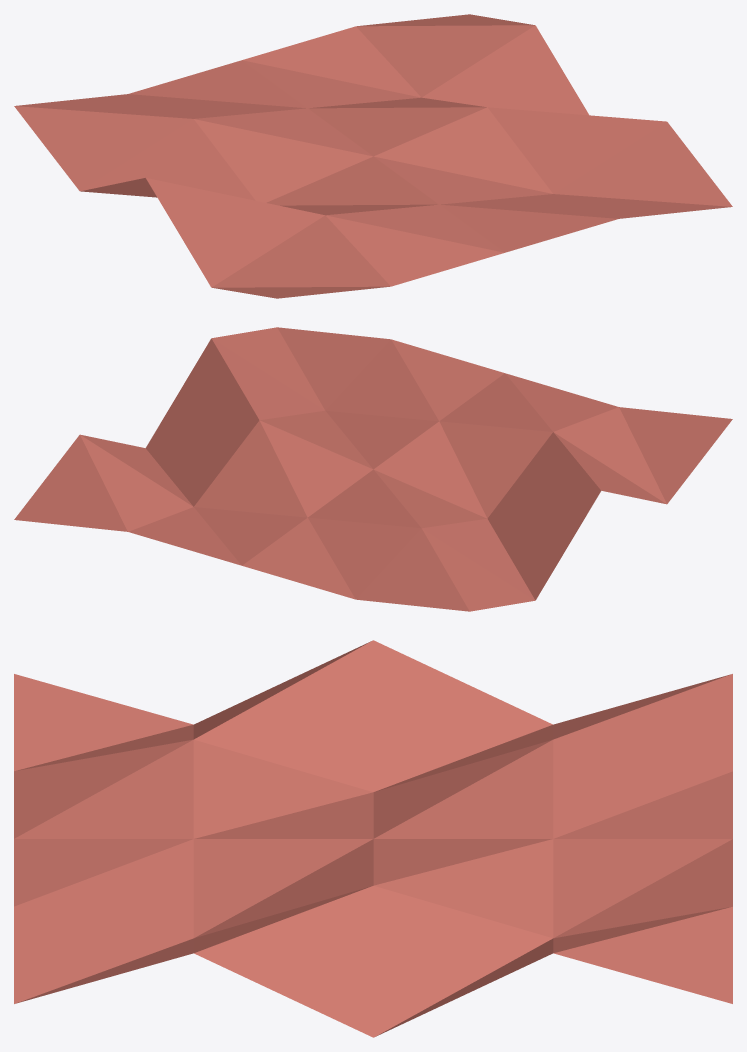
3 views of the same model, one above another, from view 1: azimuth 30°, elevation 25°; view 2: azimuth 150°, elevation 25°; view 3: azimuth 270°, elevation 25° (orthographic). The views are drawn at different scales.
Size of the model in its own units: 40 by 5.75 by 40.
